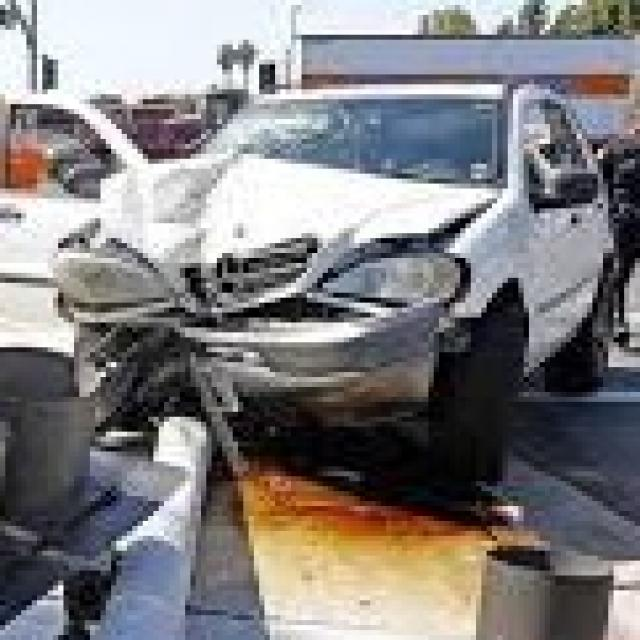moderate: (52, 182, 428, 518)
